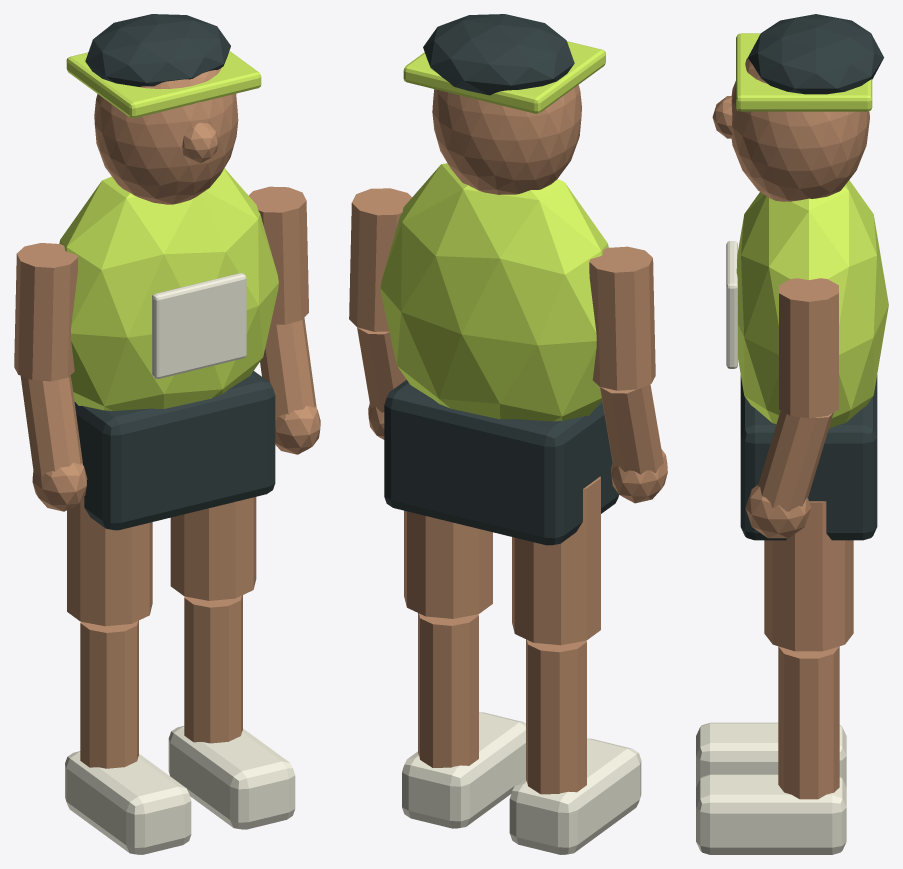
The model's file is runner.glb.
3 renders of one model, left to right at view 1: azimuth 30°, elevation 25°; view 2: azimuth 150°, elevation 25°; view 3: azimuth 270°, elevation 25°, orthographic. The views are drawn at different scales.
Visible parts, largest first — view 1: Singlet, Shorts, Head, Trail shoe, Trail shoe.001, Thigh, Shin, Shin.001, Race number, Hair, Upper arm, Thigh.001 (+7 smaller); view 2: Singlet, Shorts, Head, Thigh, Hair, Shin.001, Shin, Trail shoe, Upper arm, Trail shoe.001, Thigh.001, Upper arm.001 (+4 smaller); view 3: Singlet, Head, Trail shoe.001, Thigh.001, Shorts, Shin.001, Hair, Upper arm.001, Trail shoe, Forearm.001, Headband, Hand.001 (+2 smaller).
Part boxes in pixels (x1,y1,x2,y2): Singlet: (59, 168, 278, 410); Shorts: (74, 371, 275, 530); Head: (94, 68, 238, 204); Trail shoe: (65, 751, 191, 854); Trail shoe.001: (168, 726, 295, 829); Thigh: (67, 497, 152, 626); Shin: (80, 620, 138, 768); Shin.001: (184, 595, 242, 743); Race number: (152, 273, 246, 378); Hair: (85, 14, 230, 86); Upper arm: (14, 243, 78, 381); Thigh.001: (170, 497, 256, 600); Singlet: (380, 163, 608, 421); Shorts: (384, 379, 618, 545); Head: (432, 85, 581, 194); Thigh: (512, 476, 600, 645); Hair: (423, 14, 574, 95); Shin.001: (418, 613, 478, 767); Shin: (526, 639, 586, 794); Trail shoe: (509, 738, 641, 854); Upper arm: (589, 246, 655, 390); Trail shoe.001: (402, 712, 525, 828); Thigh.001: (404, 510, 492, 618); Upper arm.001: (349, 188, 411, 331); Singlet: (736, 180, 888, 428); Head: (731, 57, 869, 201); Trail shoe.001: (696, 774, 846, 854); Thigh.001: (764, 501, 853, 651); Shorts: (740, 375, 877, 540); Shin.001: (778, 646, 839, 799); Hair: (748, 14, 883, 94); Upper arm.001: (779, 278, 838, 418); Trail shoe: (696, 722, 846, 787); Forearm.001: (758, 411, 833, 511); Headband: (736, 33, 872, 111); Hand.001: (745, 485, 811, 538).
Bounding box in the file's own units: 0.719 × 1.85 × 0.41.
